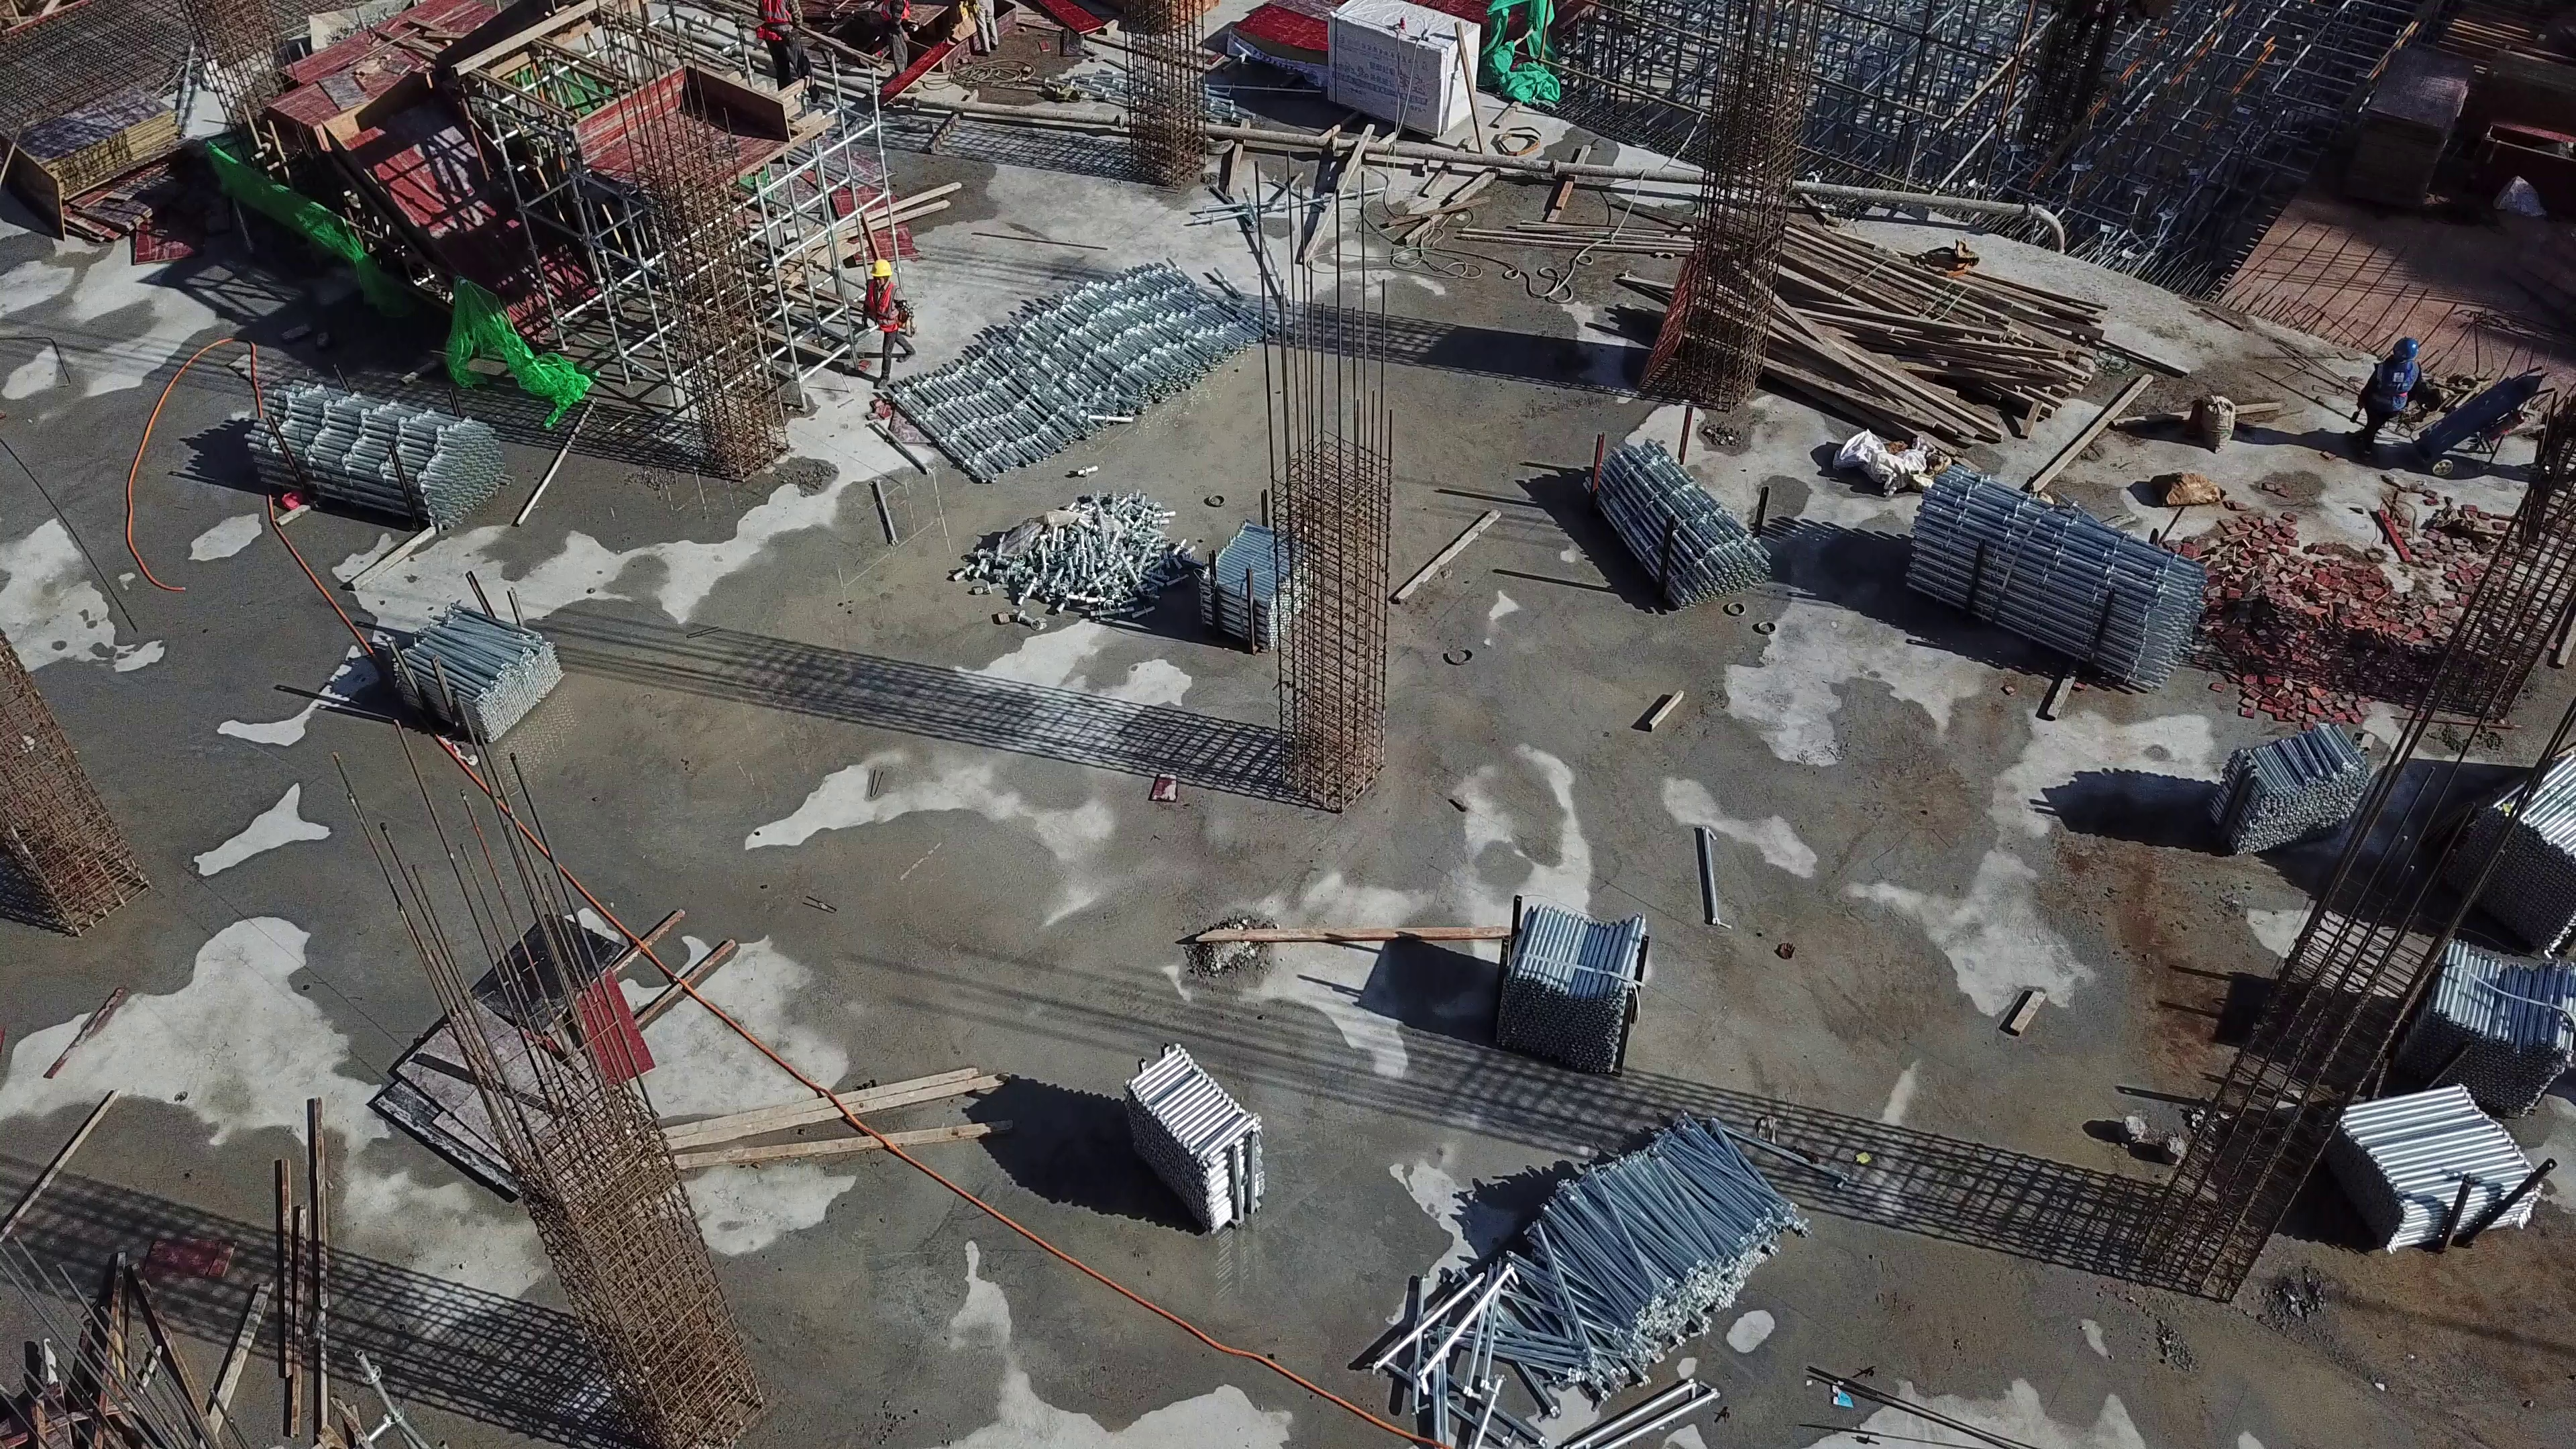board: (338, 922, 666, 1211), (5, 95, 178, 237)
helmet: (2390, 339, 2416, 362), (870, 260, 894, 278)
person: (2353, 335, 2420, 467), (857, 261, 922, 387), (755, 1, 818, 107), (966, 1, 1010, 53), (884, 1, 910, 75)
scaffold: (1402, 1125, 1830, 1449), (882, 262, 1261, 458), (1897, 463, 2198, 695), (225, 378, 509, 527), (2315, 1095, 2559, 1247), (1568, 435, 1775, 614), (345, 598, 578, 747), (1114, 1034, 1275, 1249), (2396, 927, 2576, 1100), (948, 494, 1171, 633), (1485, 890, 1638, 1058), (2451, 737, 2576, 932), (1178, 518, 1324, 667), (2205, 729, 2350, 853)
vest: (2371, 359, 2410, 413), (863, 282, 899, 337), (761, 1, 802, 40)
wood: (1732, 215, 2056, 433)
